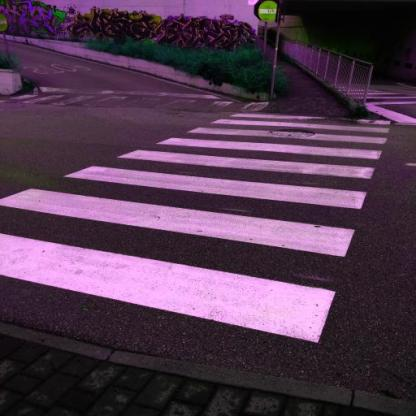crosswalk: (0, 163, 384, 260), (184, 117, 396, 147)
